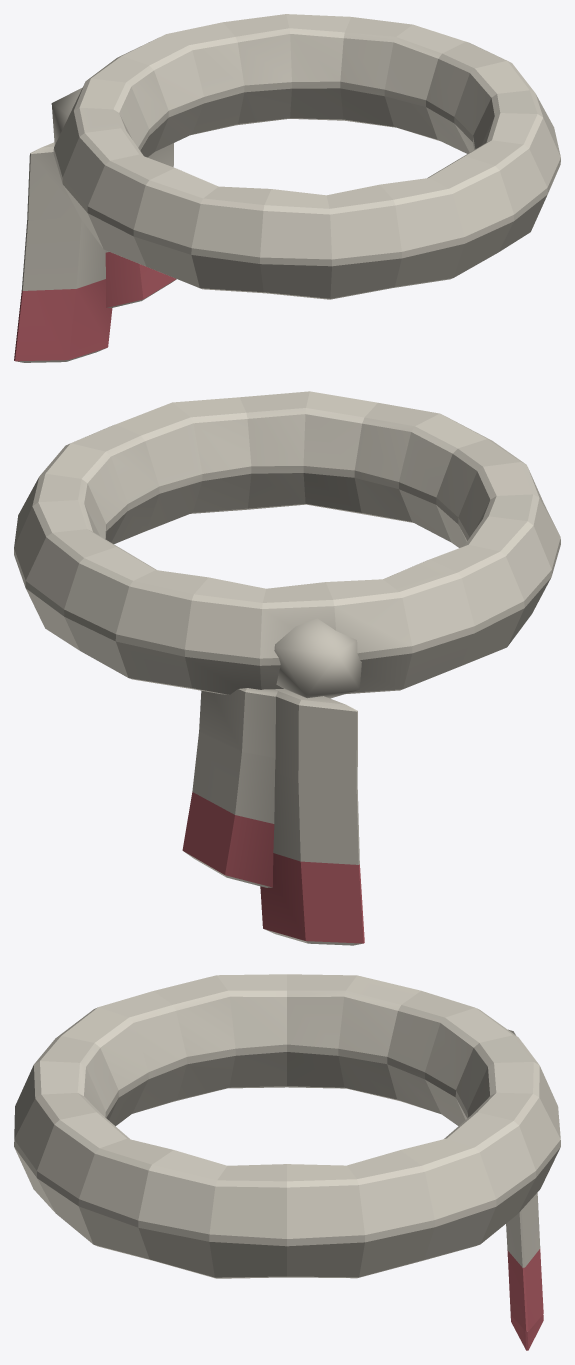
Rendered from resident_scarf_cream.glb.
3 views of the same model, one above another, from view 1: azimuth 30°, elevation 25°; view 2: azimuth 150°, elevation 25°; view 3: azimuth 270°, elevation 25° (orthographic). The views are drawn at different scales.
Size of the model in its own units: 1.51 by 0.9858 by 1.5.
